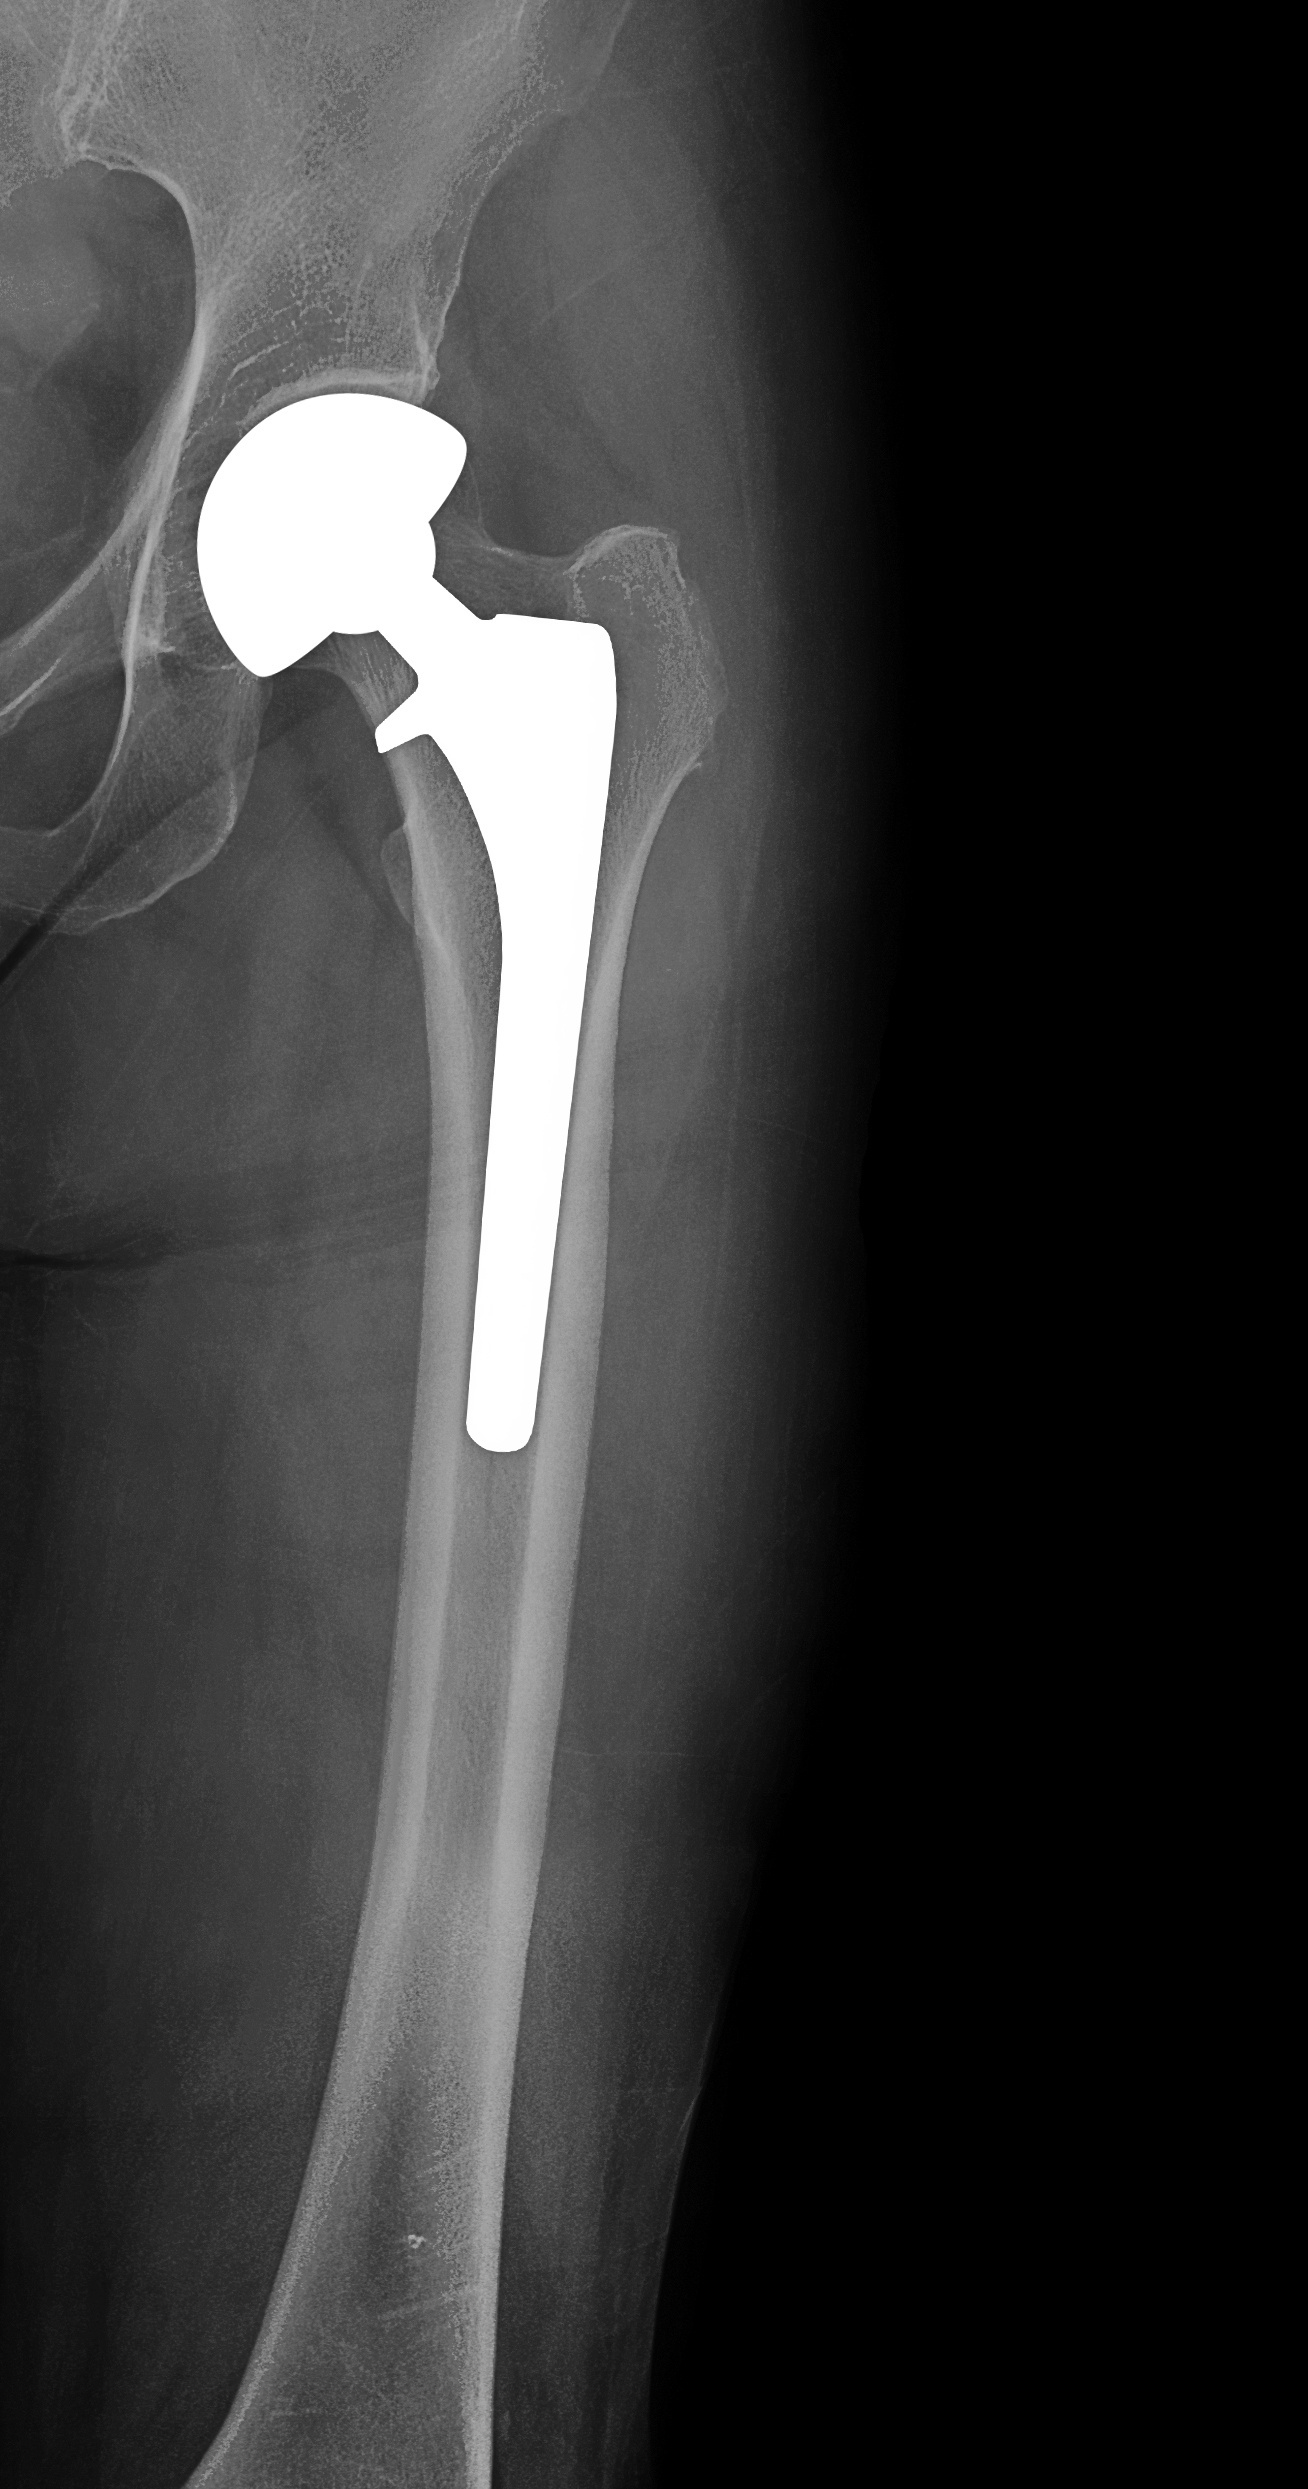Hip - APR - Zimmer: (169, 357, 656, 1505)
